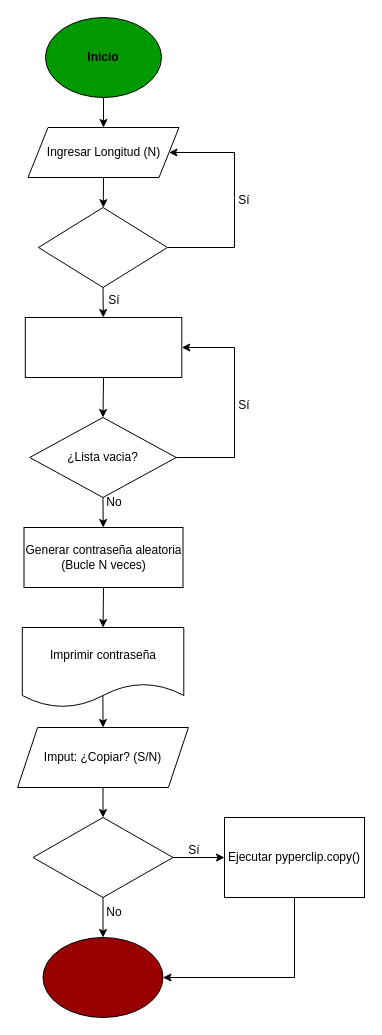
Some shapes in this 382 by 1035 pixel diagram are drawn without their labels. The shapes that lost their labels are listed below. From the top down, each one's centre as x and y in pixels, then its label:
[103,247]: ¿N > 0?
[103,347]: Crear lista de caracteres disponibles
[102,857]: ¿Es "S"?
[102,977]: FIN
